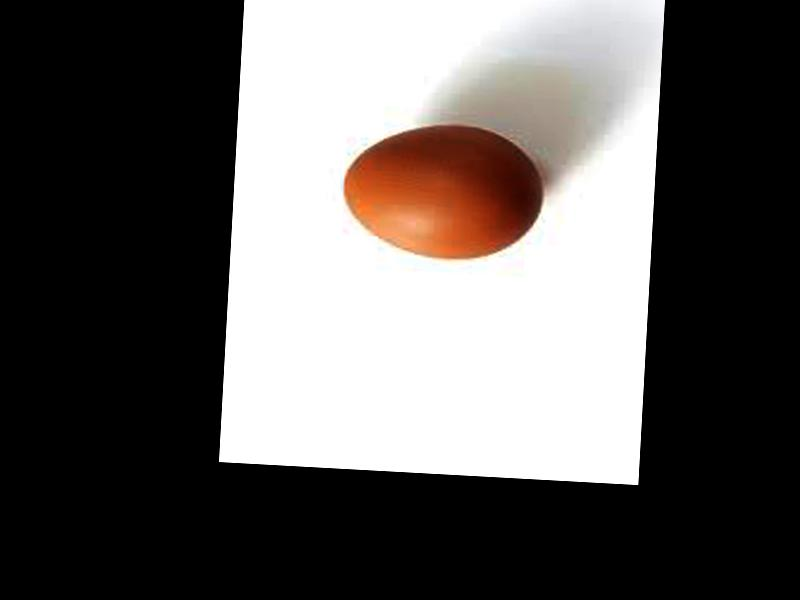Eggs: (338, 120, 545, 261)
